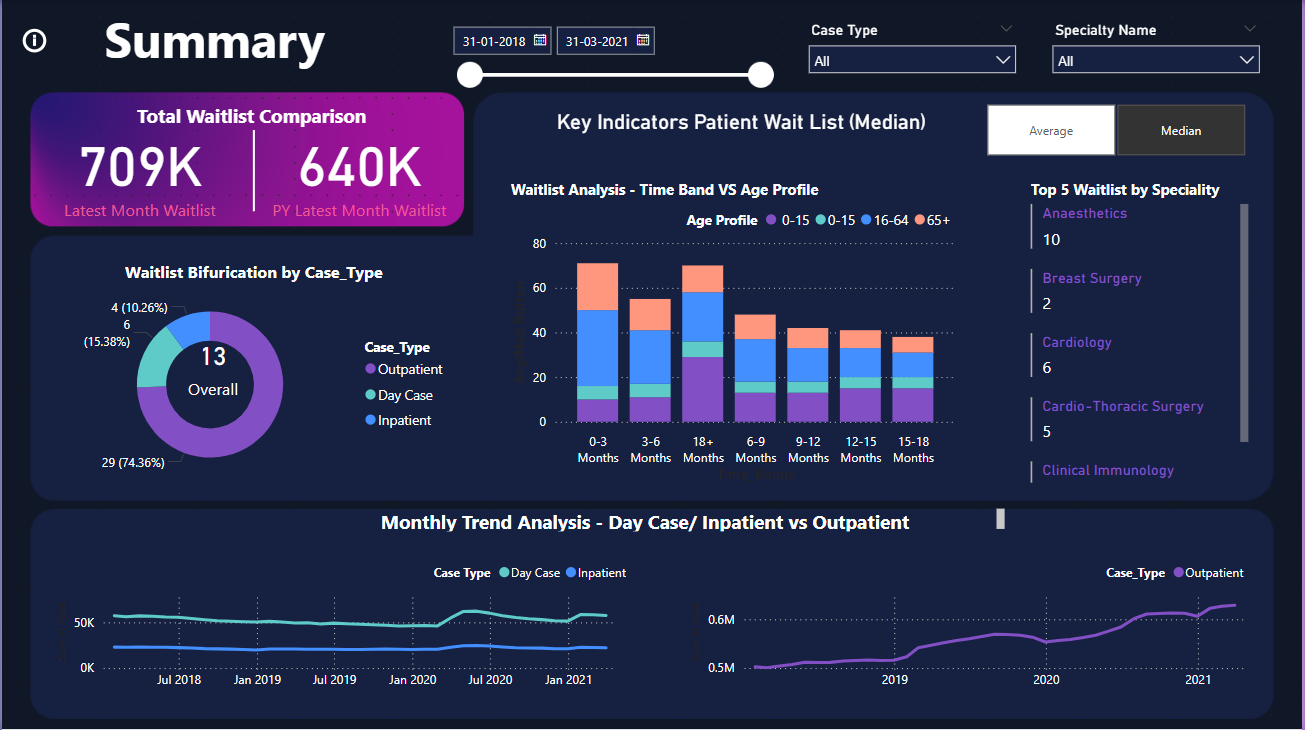

What the dashboard file says about the page in this screenshot:
{"tool":"powerbi","page":{"name":"Summary","canvas":[1280,720],"ordinal":0},"visuals":[{"type":"card","fields":{"Values":["All_Data.Latest Month Waitlist"]},"box":[32,112,208,112],"z":0},{"type":"card","fields":{"Values":["All_Data.PY Latest Month Waitlist"]},"box":[256,112,192,112],"z":1000},{"type":"slicer","fields":{"Values":["Calculation Method.Calc Method"]},"box":[944,96,304,64],"z":2000},{"type":"donutChart","title":"Waitlist Bifurication by Case_Type","fields":{"Category":["All_Data.Case_Type"],"Y":["All_Data.Avg/Med Button"]},"box":[48,256,400,224],"z":3000},{"type":"columnChart","title":"Waitlist Analysis - Time Band VS Age Profile","fields":{"Y":["All_Data.Avg/Med Button"],"Category":["All_Data.Time_Bands"],"Series":["All_Data.Age_Profile"]},"box":[496,176,448,304],"z":4000},{"type":"multiRowCard","title":"Top 5 Waitlist by Speciality","fields":{"Values":["All_Data.Specialty_Name","All_Data.Avg/Med Button"]},"box":[1008,176,224,304],"z":5000},{"type":"card","fields":{"Values":["All_Data.NoDataLeft"]},"box":[96,528,368,144],"z":6000},{"type":"lineChart","fields":{"Category":["All_Data.Archive_Date"],"Y":["Sum(All_Data.Total)"],"Series":["All_Data.Case_Type"]},"box":[48,544,576,144],"z":7000},{"type":"card","fields":{"Values":["All_Data.NoDataRight"]},"box":[768,560,448,80],"z":7500},{"type":"lineChart","fields":{"Category":["All_Data.Archive_Date"],"Y":["Sum(All_Data.Total)"],"Series":["All_Data.Case_Type"]},"box":[672,544,560,144],"z":8000},{"type":"slicer","fields":{"Values":["All_Data.Archive_Date"]},"box":[432,16,336,80],"z":9000},{"type":"slicer","fields":{"Values":["All_Data.Case_Type"]},"box":[784,16,224,64],"z":10000},{"type":"slicer","fields":{"Values":["All_Data.Specialty_Name"]},"box":[1024,16,224,64],"z":11000},{"type":"card","fields":{"Values":["All_Data.Avg/Med Button"]},"box":[160,320,96,80],"z":12000},{"type":"textbox","box":[96,0,304,80],"z":13000},{"type":"card","fields":{"Values":["All_Data.Dynamic Title"]},"box":[512,96,432,48],"z":15000},{"type":"shape","box":[240,128,16,80],"z":15001},{"type":"actionButton","box":[16,16,32,48],"z":15002},{"type":"textbox","box":[128,96,256,48],"z":15003},{"type":"textbox","box":[368,496,624,32],"z":15004}]}

Visuals, with their boxes in screenshot pixels (x1, y1, x2, y2), scaled from the page's 1280x720 canvas onto the 1305x730 screenshot:
card - All_Data.Latest Month Waitlist: Rect(33, 114, 245, 227)
card - All_Data.PY Latest Month Waitlist: Rect(261, 114, 457, 227)
slicer - Calculation Method.Calc Method: Rect(962, 97, 1272, 162)
"Waitlist Bifurication by Case_Type" donutChart: Rect(49, 260, 457, 487)
"Waitlist Analysis - Time Band VS Age Profile" columnChart: Rect(506, 178, 962, 487)
"Top 5 Waitlist by Speciality" multiRowCard: Rect(1028, 178, 1256, 487)
card - All_Data.NoDataLeft: Rect(98, 535, 473, 681)
lineChart - All_Data.Archive_Date x Sum(All_Data.Total): Rect(49, 552, 636, 698)
card - All_Data.NoDataRight: Rect(783, 568, 1240, 649)
lineChart - All_Data.Archive_Date x Sum(All_Data.Total): Rect(685, 552, 1256, 698)
slicer - All_Data.Archive_Date: Rect(440, 16, 783, 97)
slicer - All_Data.Case_Type: Rect(799, 16, 1028, 81)
slicer - All_Data.Specialty_Name: Rect(1044, 16, 1272, 81)
card - All_Data.Avg/Med Button: Rect(163, 324, 261, 406)
textbox: Rect(98, 0, 408, 81)
card - All_Data.Dynamic Title: Rect(522, 97, 962, 146)
shape: Rect(245, 130, 261, 211)
actionButton: Rect(16, 16, 49, 65)
textbox: Rect(130, 97, 392, 146)
textbox: Rect(375, 503, 1011, 535)
